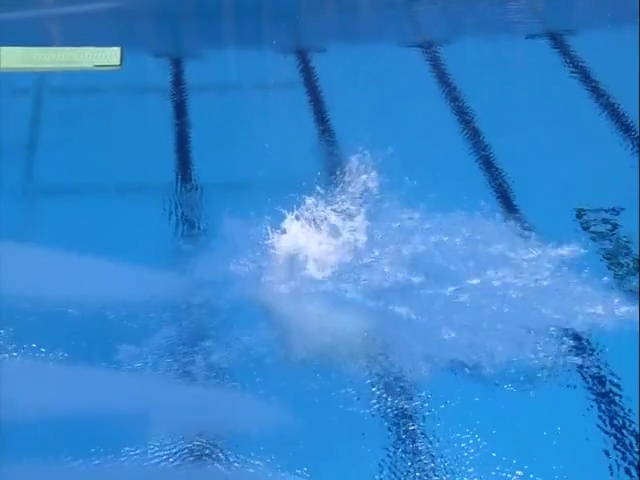splash: (264, 153, 388, 289)
